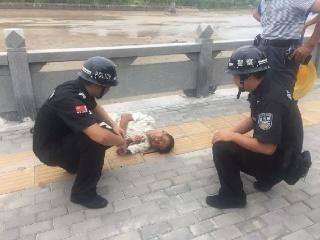Fall-Detected: (97, 103, 180, 158)
